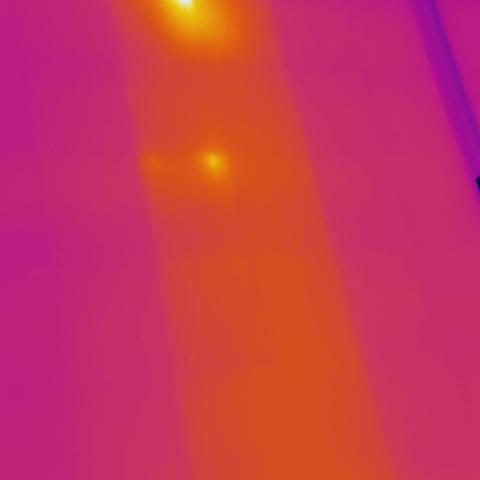fault: (161, 1, 208, 29), (196, 152, 238, 179)
